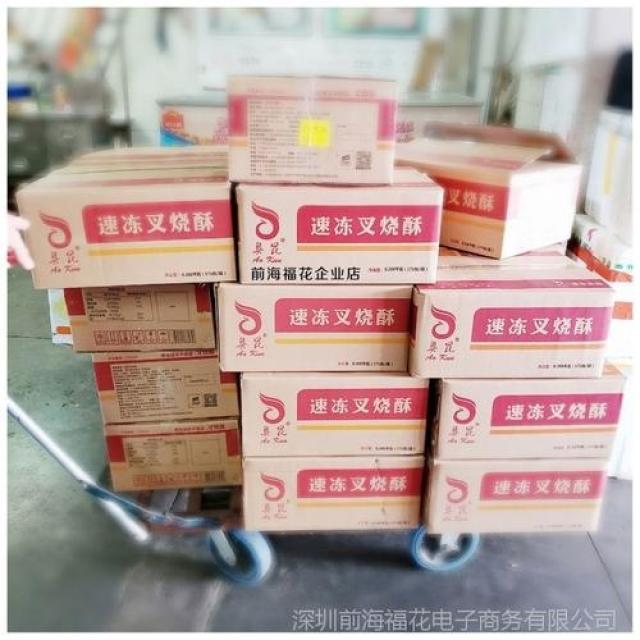box: (408, 246, 617, 379), (15, 168, 237, 291), (393, 120, 581, 260), (234, 164, 445, 284), (426, 361, 627, 460), (229, 74, 398, 184), (214, 280, 413, 372), (239, 371, 429, 457), (421, 454, 611, 535), (242, 456, 426, 531), (90, 349, 239, 424), (63, 284, 216, 352), (102, 419, 242, 493), (567, 212, 634, 358), (584, 110, 632, 246), (47, 289, 73, 346)
